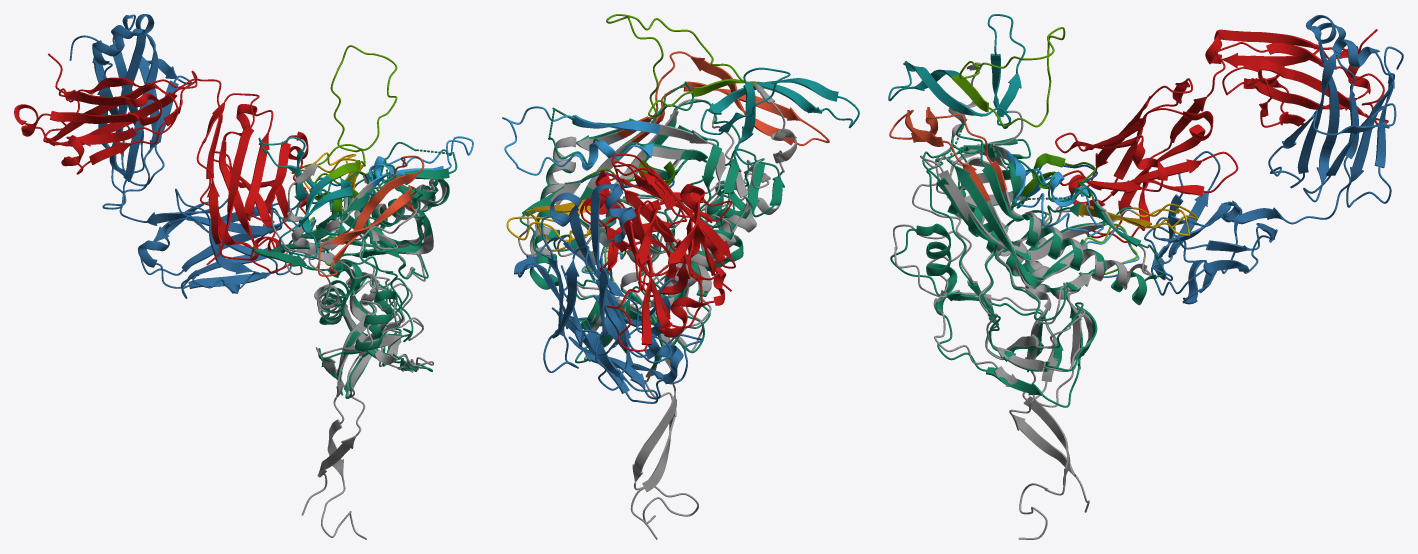
Rendered from 5FYJ-5TE4_b.glb.
The picture shows the model from 3 angles, left to right: view 1: azimuth 30°, elevation 25°; view 2: azimuth 150°, elevation 25°; view 3: azimuth 270°, elevation 25°; orthographic projection. The views are drawn at different scales.
Parts seen in each view (by area): view 1: Mesh_11; view 2: Mesh_11; view 3: Mesh_11.
Part boxes in pixels (<box>): Mesh_11: <box>14,14,473,539</box>; Mesh_11: <box>502,14,859,539</box>; Mesh_11: <box>888,14,1403,539</box>.
Size of the model in its own units: 3.55 by 5.03 by 4.56.
